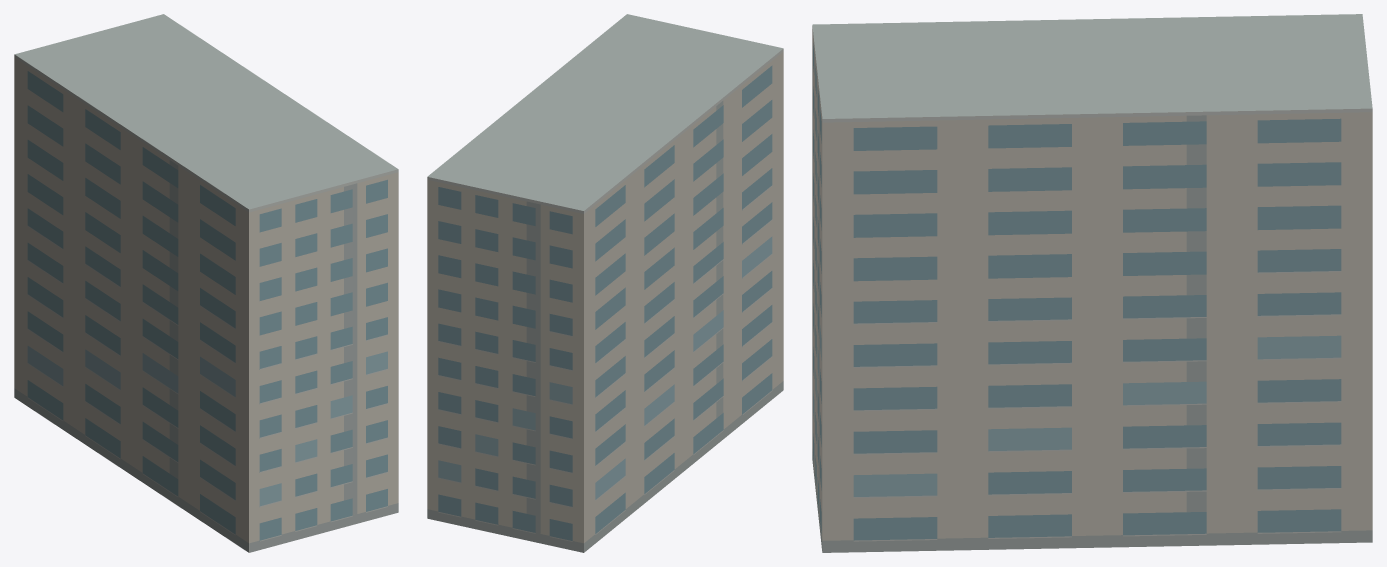
File: residential-0bbab665-f14b-4825-bfa8-3f6404d0df6c.glb
3 views of the same model, side by side, from view 1: azimuth 30°, elevation 25°; view 2: azimuth 150°, elevation 25°; view 3: azimuth 270°, elevation 25° (orthographic). The views are drawn at different scales.
Parts seen in each view (by area): view 1: residential-0bbab665-f14b-4825-bfa8-3f6404d0df6c.tmp; view 2: residential-0bbab665-f14b-4825-bfa8-3f6404d0df6c.tmp; view 3: residential-0bbab665-f14b-4825-bfa8-3f6404d0df6c.tmp.
Boxes of the visible parts, box(x1,y1,x2,y2) form: residential-0bbab665-f14b-4825-bfa8-3f6404d0df6c.tmp: box(14, 14, 398, 552); residential-0bbab665-f14b-4825-bfa8-3f6404d0df6c.tmp: box(427, 14, 783, 552); residential-0bbab665-f14b-4825-bfa8-3f6404d0df6c.tmp: box(812, 14, 1372, 552).
Size of the model in its own units: 15.07 by 29 by 33.95.
